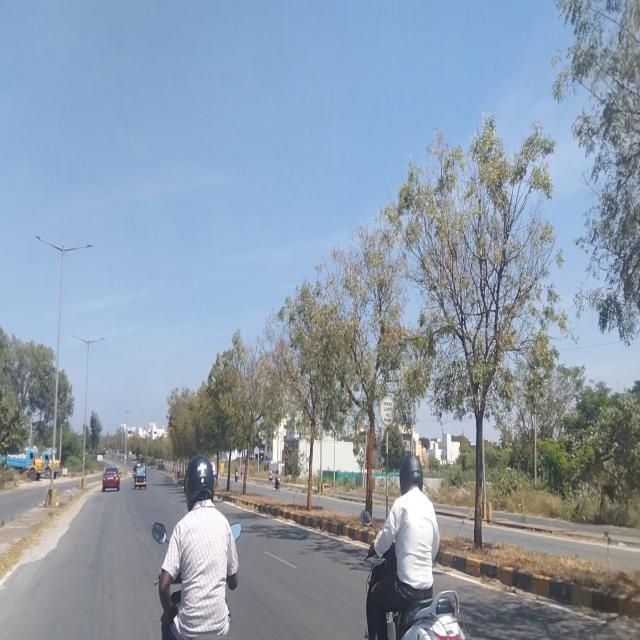bien_nguy_hiem: (379, 397, 396, 426)
